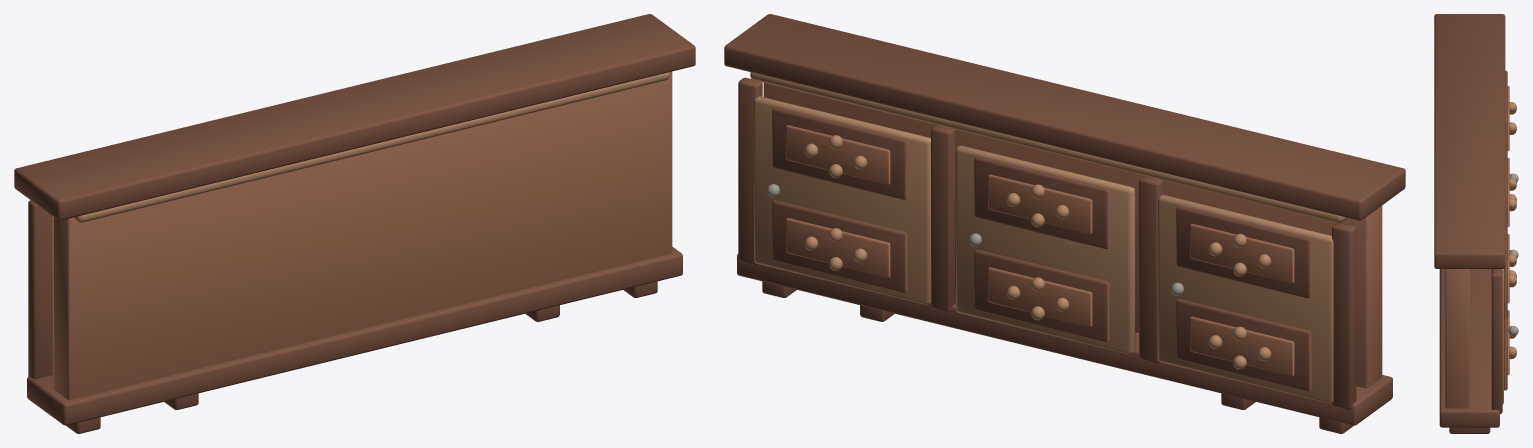
The model's file is carved-cabinet.glb.
3 views of the same model, side by side, from view 1: azimuth 30°, elevation 25°; view 2: azimuth 150°, elevation 25°; view 3: azimuth 270°, elevation 25° (orthographic). The views are drawn at different scales.
Parts seen in each view (by area): view 1: merged_wood, merged_wood_dark, merged_wood_worn; view 2: merged_wood_dark, merged_wood_worn, merged_wood; view 3: merged_wood_dark, merged_wood, merged_wood_worn, merged_metal_light.
Part boxes in pixels (x1,y1,x2,y2): merged_wood: [53, 71, 672, 399]; merged_wood_dark: [14, 14, 695, 433]; merged_wood_worn: [52, 72, 669, 372]; merged_wood_dark: [724, 14, 1405, 433]; merged_wood_worn: [750, 72, 1347, 403]; merged_wood: [763, 82, 1382, 388]; merged_wood_dark: [1434, 14, 1507, 433]; merged_wood: [1445, 86, 1509, 408]; merged_wood_worn: [1502, 102, 1516, 404]; merged_metal_light: [1508, 173, 1518, 336].
Bounding box in the file's own units: 4.17 × 1.55 × 0.618.
